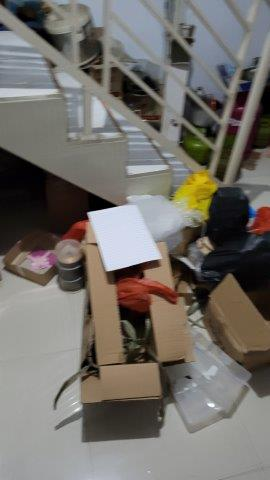kertas: (86, 205, 165, 275)
